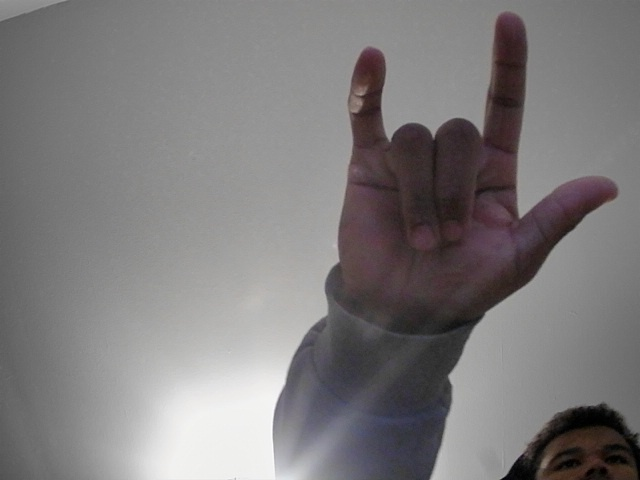ILoveYou: (317, 8, 623, 342)
